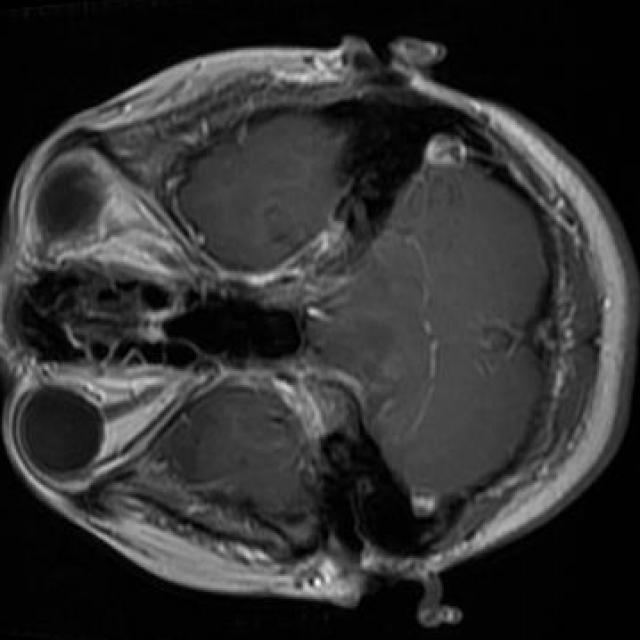glioma: (308, 250, 405, 421)
